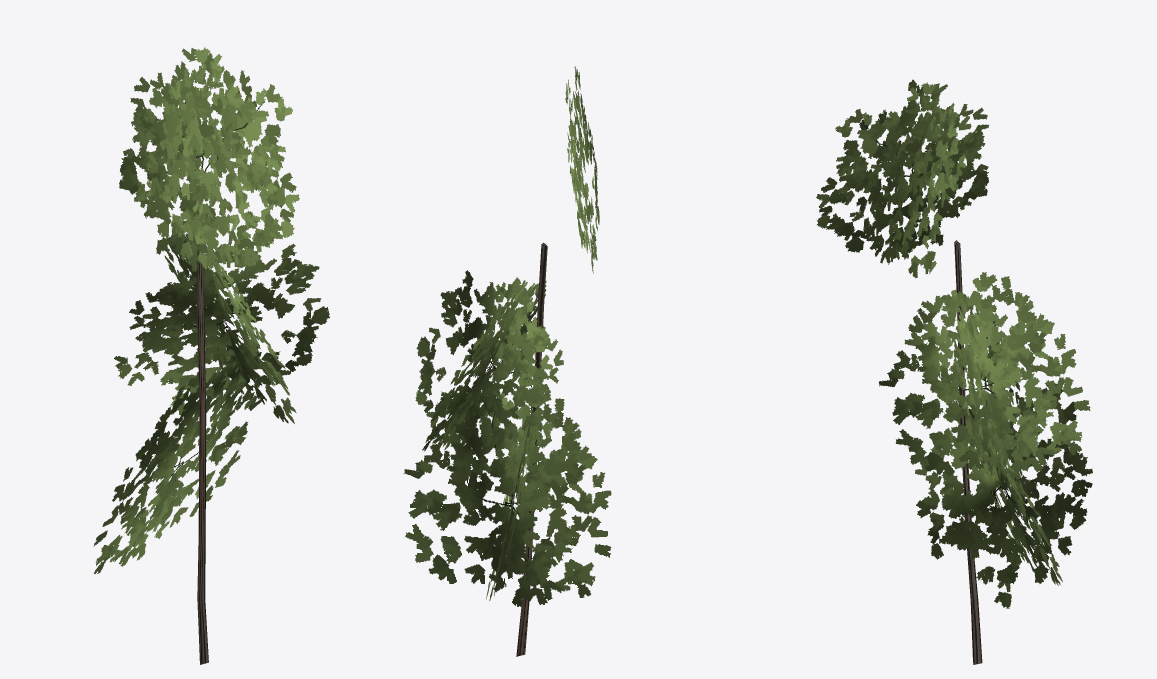
File: seedling-b.lod1.glb
3 views of the same model, side by side, from view 1: azimuth 30°, elevation 25°; view 2: azimuth 150°, elevation 25°; view 3: azimuth 270°, elevation 25° (orthographic). The views are drawn at different scales.
Parts seen in each view (by area): view 1: foliage, bark; view 2: foliage, bark; view 3: foliage, bark.
Part boxes in pixels (x1=…): foliage: x1=93, y1=47, x2=329, y2=573; bark: x1=196, y1=250, x2=208, y2=664; foliage: x1=403, y1=66, x2=611, y2=606; bark: x1=516, y1=242, x2=547, y2=656; foliage: x1=816, y1=79, x2=1092, y2=608; bark: x1=954, y1=240, x2=982, y2=664.
Size of the model in its own units: 0.168 by 0.35 by 0.1958.
2 materials, 2 textured.
